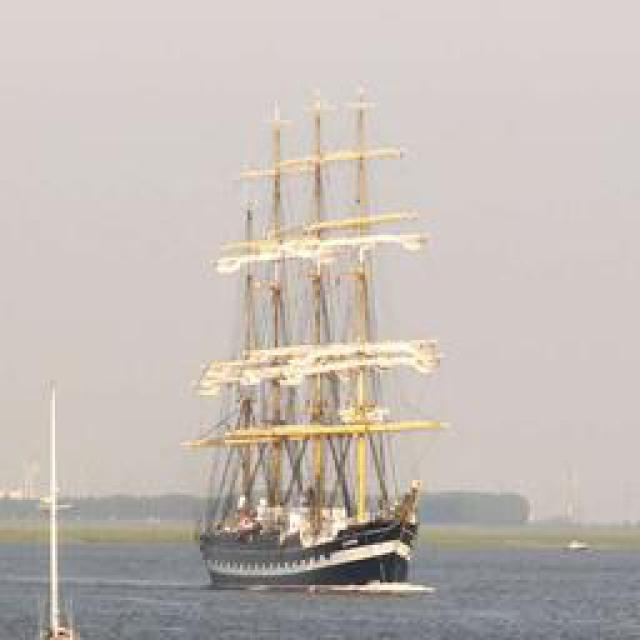Ship: (191, 86, 441, 599)
